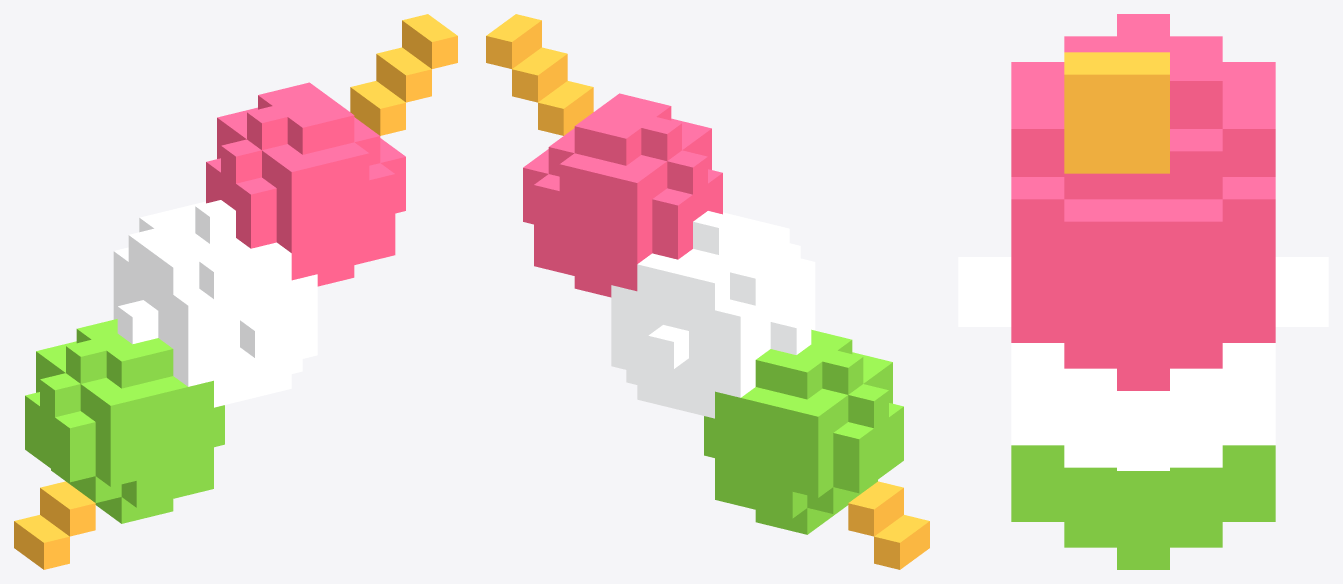
Rendered from voxel-dango.glb.
3 renders of one model, left to right at view 1: azimuth 30°, elevation 25°; view 2: azimuth 150°, elevation 25°; view 3: azimuth 270°, elevation 25°, orthographic. The views are drawn at different scales.
Visible parts, largest first — view 1: dango; view 2: dango; view 3: dango.
Boxes of the visible parts, x1=… form: dango: x1=14, y1=14, x2=457, y2=569; dango: x1=486, y1=14, x2=929, y2=569; dango: x1=958, y1=14, x2=1328, y2=569.
Size of the model in its own units: 2.4 by 2.4 by 1.05.
